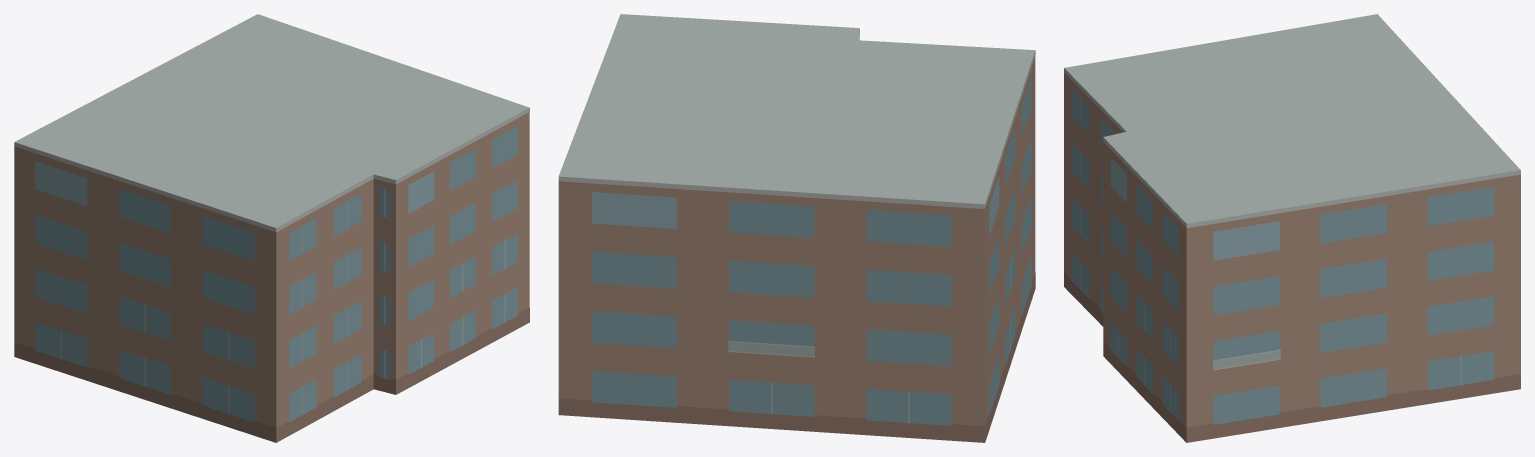
File: survey-upis-32953141.glb
The picture shows the model from 3 angles, left to right: view 1: azimuth 30°, elevation 25°; view 2: azimuth 150°, elevation 25°; view 3: azimuth 270°, elevation 25°; orthographic projection. The views are drawn at different scales.
Parts seen in each view (by area): view 1: survey-upis-32953141.tmp; view 2: survey-upis-32953141.tmp; view 3: survey-upis-32953141.tmp.
Part boxes in pixels (left/top/right/bottom): survey-upis-32953141.tmp: left=14, top=14, right=529, bottom=442; survey-upis-32953141.tmp: left=558, top=14, right=1035, bottom=442; survey-upis-32953141.tmp: left=1064, top=14, right=1520, bottom=442.
Size of the model in its own units: 25.4 by 12.35 by 23.36.
